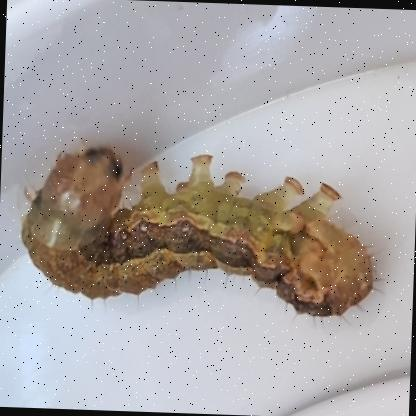Fall Armyworm Larvae: (13, 130, 393, 334)
